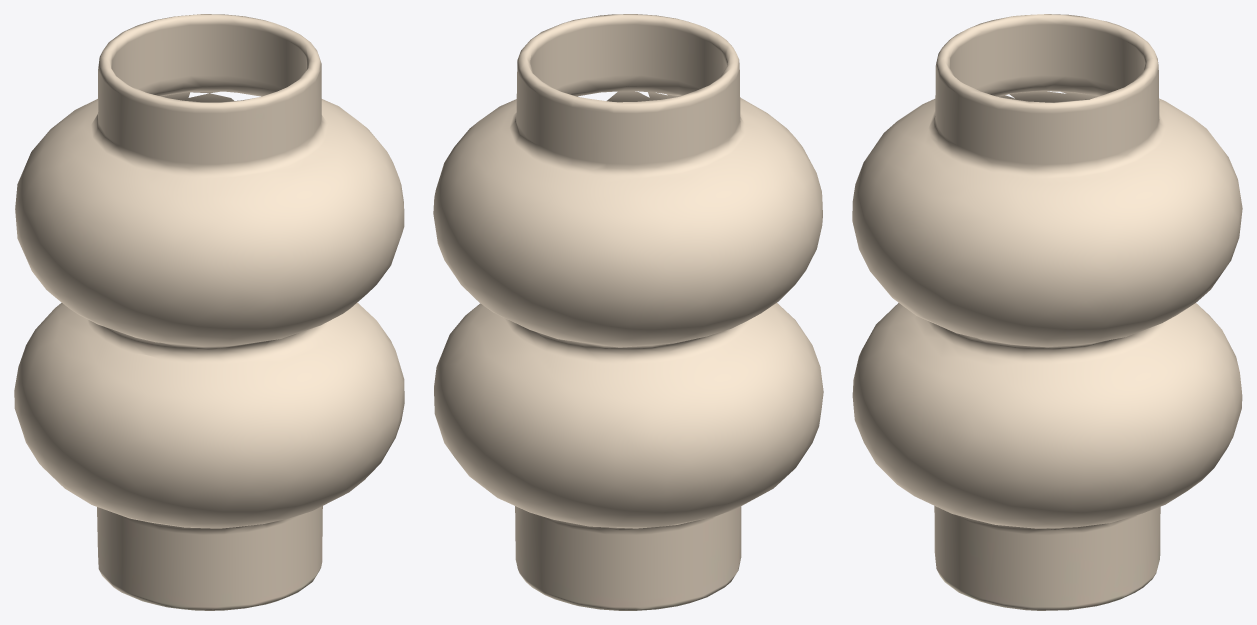
The model's file is LB-VASE-02.glb.
3 renders of one model, left to right at view 1: azimuth 30°, elevation 25°; view 2: azimuth 150°, elevation 25°; view 3: azimuth 270°, elevation 25°, orthographic.
Visible parts, largest first — view 1: ASY_ART_80623405_S01_NV01; view 2: ASY_ART_80623405_S01_NV01; view 3: ASY_ART_80623405_S01_NV01.
Part boxes in pixels (x1=…): ASY_ART_80623405_S01_NV01: x1=14, y1=14, x2=404, y2=610; ASY_ART_80623405_S01_NV01: x1=433, y1=14, x2=823, y2=610; ASY_ART_80623405_S01_NV01: x1=852, y1=14, x2=1242, y2=610.
Bounding box in the file's own units: 0.1483 × 0.2126 × 0.1484.
Materials: 2 (2 with a texture image).
